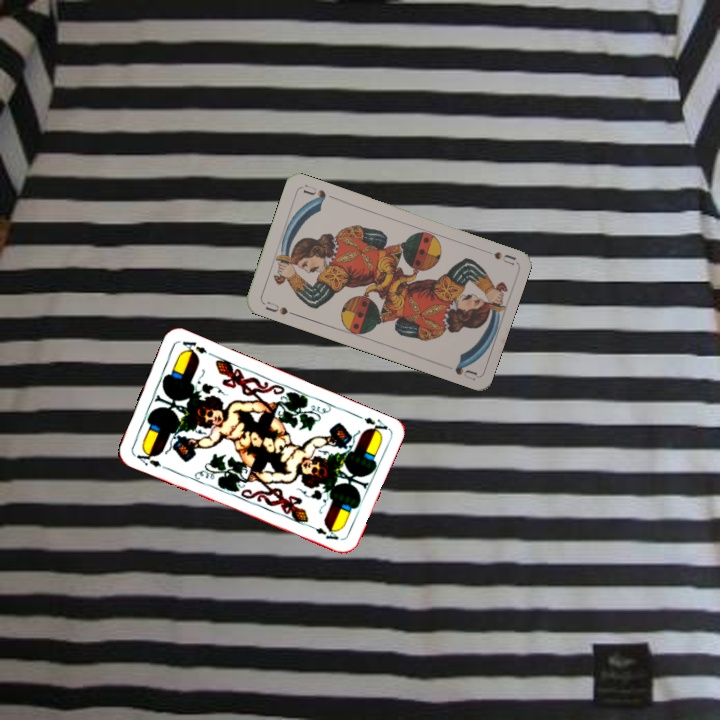EA: (351, 410, 390, 437), (130, 446, 169, 472)
SU: (259, 297, 299, 318), (490, 247, 517, 267)
